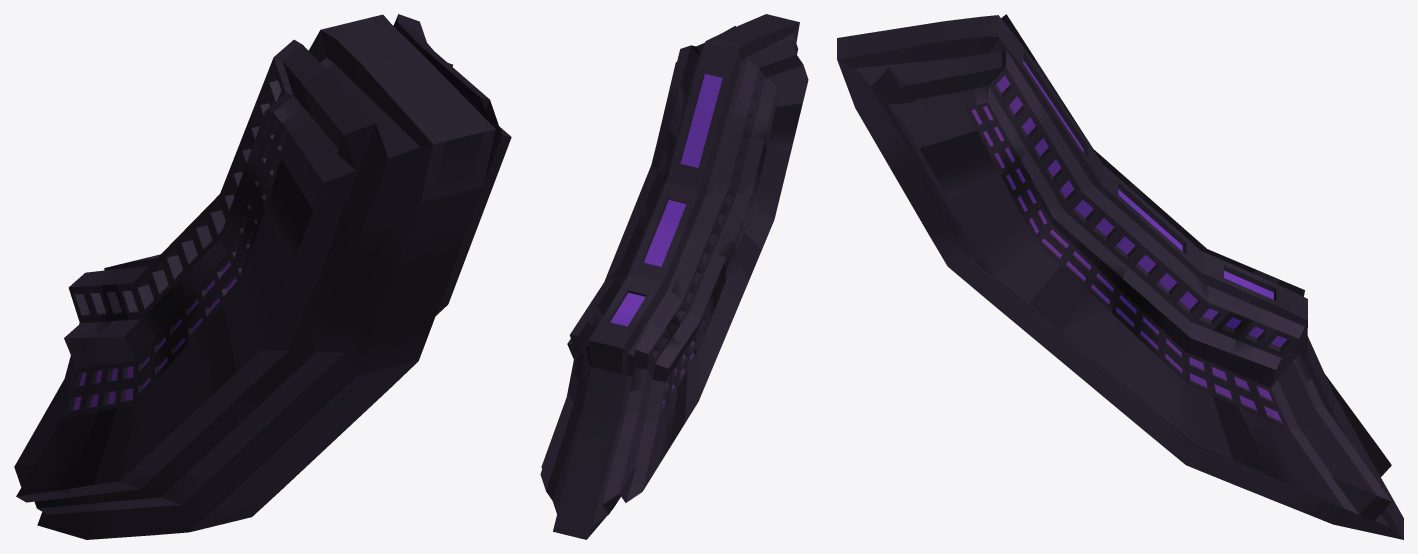
Rendered from OmnidirectionalEngine.fbx.
3 renders of one model, left to right at view 1: azimuth 30°, elevation 25°; view 2: azimuth 150°, elevation 25°; view 3: azimuth 270°, elevation 25°, orthographic. The views are drawn at different scales.
Visible parts, largest first — view 1: OmnidirectionalEngine; view 2: OmnidirectionalEngine; view 3: OmnidirectionalEngine.
Boxes of the visible parts, <box> form: OmnidirectionalEngine: <box>14,14,511,539</box>; OmnidirectionalEngine: <box>540,14,808,539</box>; OmnidirectionalEngine: <box>837,14,1403,539</box>.
Bounding box in the file's own units: 0.2681 × 0.9784 × 0.9583.
